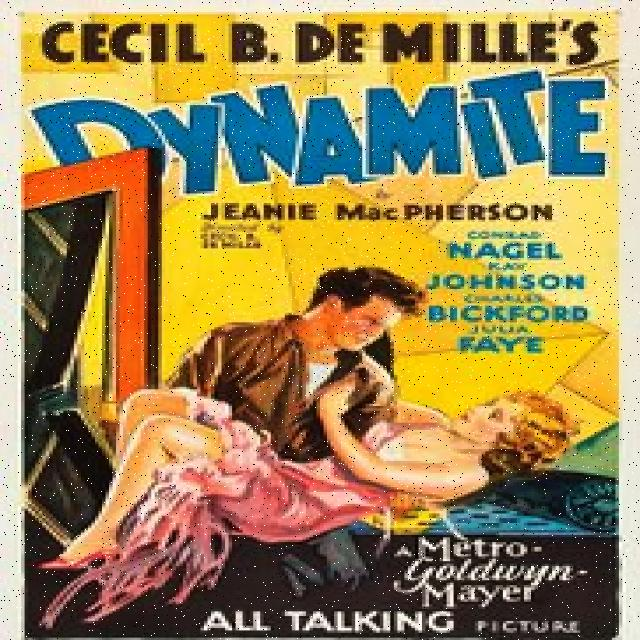movie-judul: (25, 74, 624, 195)
picture: (61, 270, 544, 612)
